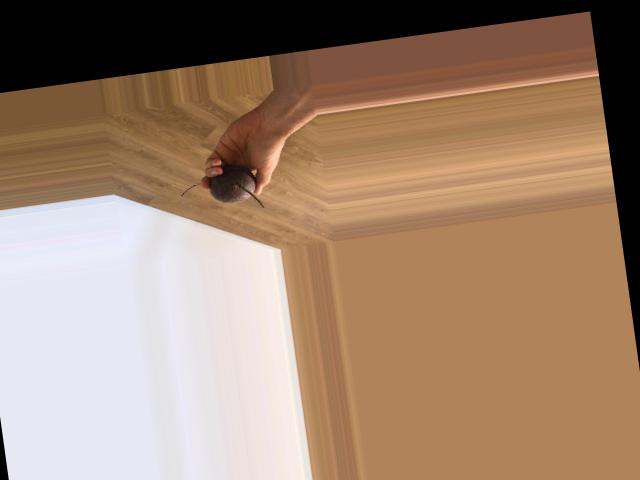beet: (177, 161, 263, 218)
